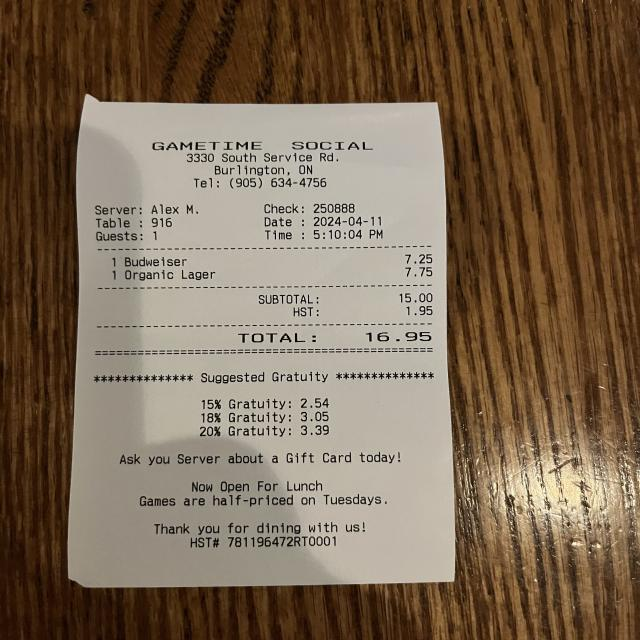item: (120, 248, 437, 270), (119, 264, 438, 285)
store_name: (145, 135, 380, 156)
total_amount: (237, 325, 438, 351)
transaction_date: (308, 213, 388, 231)
